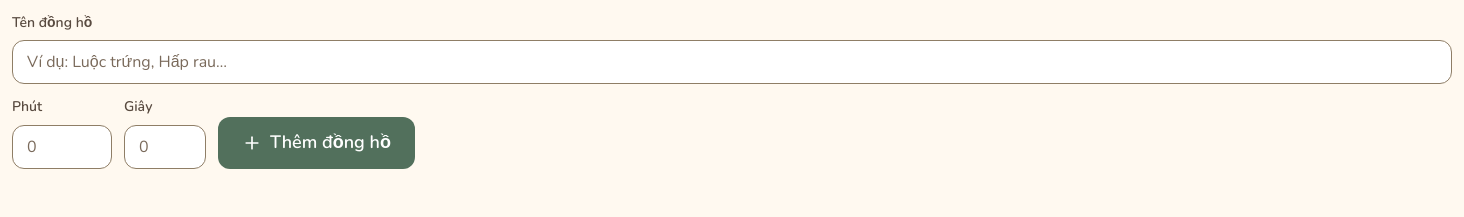
it: P10 — TimerForm › chặn thời lượng 0 giây bằng thông báo lỗi
This screenshot has width=1464, height=217.
Click the button "Thêm đồng hồ".
click(316, 143)  # box left=218, top=117, right=415, bottom=169
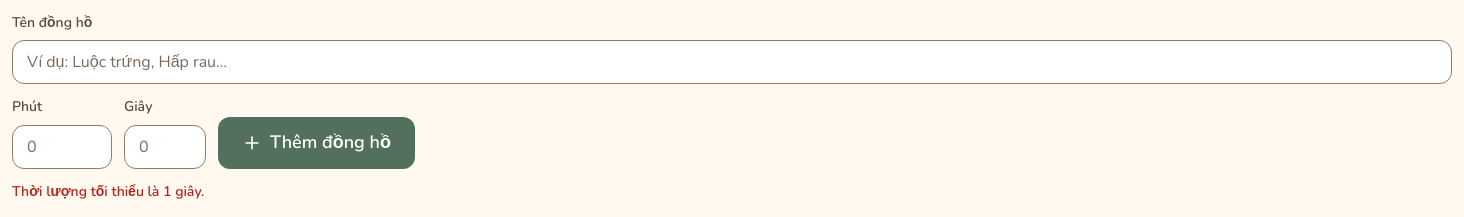
expect the message shows "tối thiểu": met, box left=12, top=182, right=204, bottom=201
